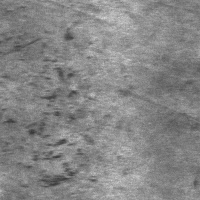rolled-in_scale: (12, 33, 99, 193)
